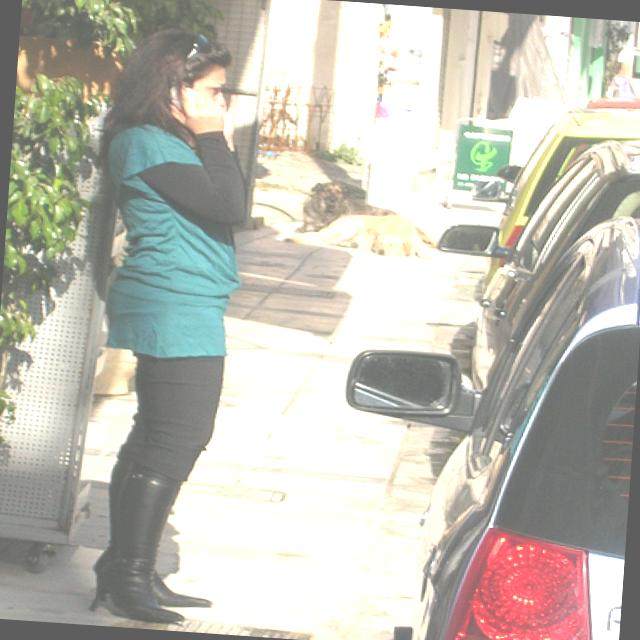Vehicle: (315, 192, 640, 640), (468, 117, 640, 384), (497, 96, 640, 255), (587, 89, 640, 111)
